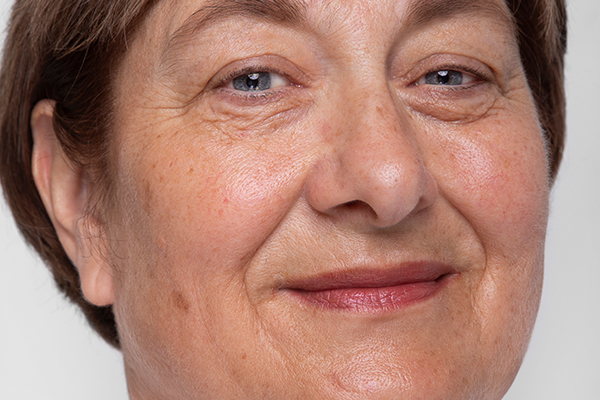darkspot: (164, 271, 200, 323)
puffy eyes: (198, 97, 316, 132), (407, 88, 512, 124)
wrinkles: (221, 250, 278, 364), (142, 84, 196, 135)
